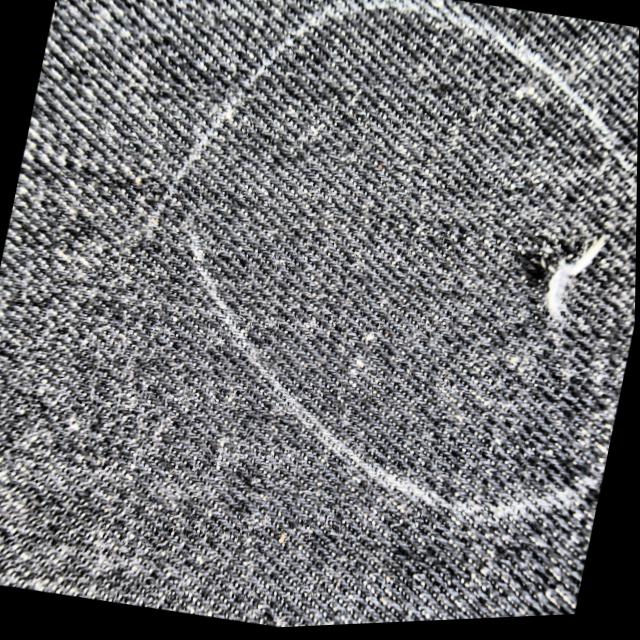Hole: (517, 214, 622, 338)
